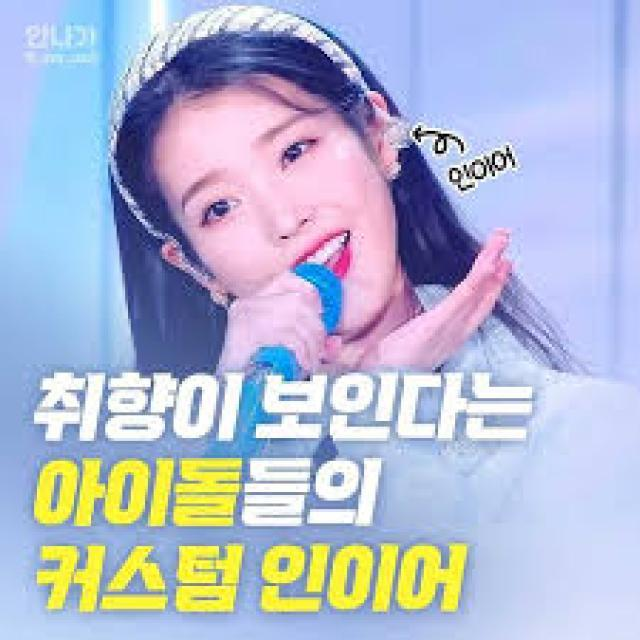earphone: (355, 84, 431, 158)
